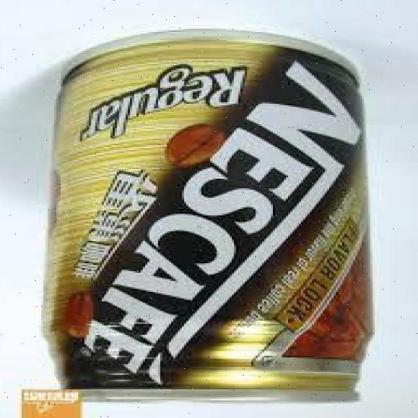can: (42, 29, 377, 404)
